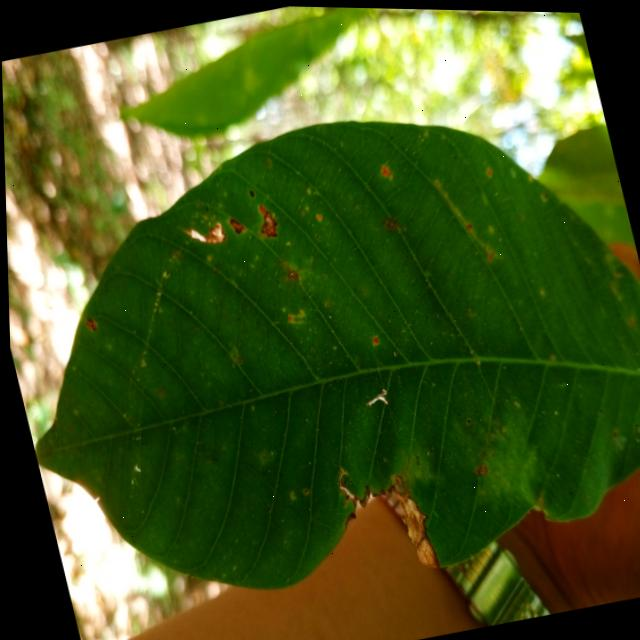Colletotrichum: (247, 188, 252, 196)
Leaf-Blight: (391, 490, 435, 572)
